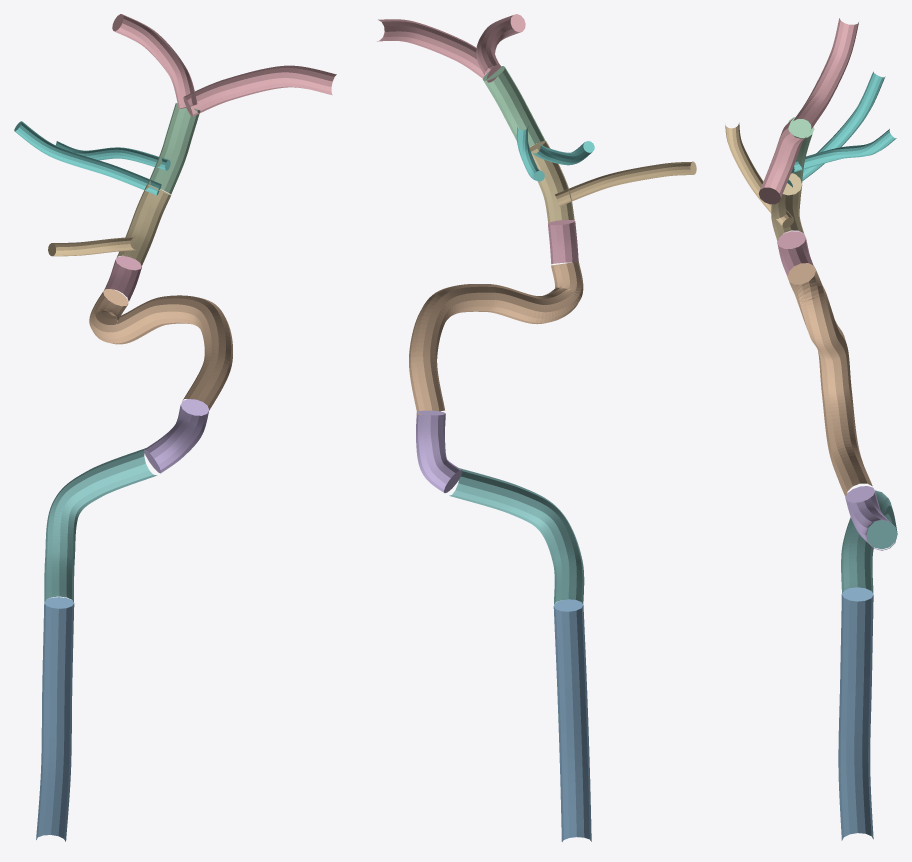
Rendered from aci.glb.
The picture shows the model from 3 angles, left to right: view 1: azimuth 30°, elevation 25°; view 2: azimuth 150°, elevation 25°; view 3: azimuth 270°, elevation 25°; orthographic projection. The views are drawn at different scales.
Parts seen in each view (by area): view 1: C1 — cervical, C4 — cavernoso, C2 — petroso, Artéria cerebral média — M1 inicial, C3 — lacerum, Artéria cerebral anterior — A1 inicial, C7 — comunicante, Artéria comunicante posterior, C6 — oftálmico, Artéria oftálmica — origem habitual esquemática, Artéria coroideia anterior, C5 — clinoideo; view 2: C4 — cavernoso, C1 — cervical, C2 — petroso, Artéria cerebral média — M1 inicial, C3 — lacerum, C7 — comunicante, Artéria oftálmica — origem habitual esquemática, C6 — oftálmico, Artéria cerebral anterior — A1 inicial, C5 — clinoideo, Artéria comunicante posterior, Artéria coroideia anterior; view 3: C1 — cervical, C4 — cavernoso, C2 — petroso, Artéria cerebral anterior — A1 inicial, Artéria cerebral média — M1 inicial, Artéria comunicante posterior, C3 — lacerum, Artéria oftálmica — origem habitual esquemática, Artéria coroideia anterior, C6 — oftálmico, C5 — clinoideo, C7 — comunicante.
Part boxes in pixels (x1,y1,x2,y2): C1 — cervical: (36, 597, 74, 841); C4 — cavernoso: (89, 289, 232, 411); C2 — petroso: (44, 448, 157, 602); Artéria cerebral média — M1 inicial: (183, 65, 336, 116); C3 — lacerum: (144, 399, 208, 473); Artéria cerebral anterior — A1 inicial: (112, 14, 197, 108); C7 — comunicante: (147, 103, 200, 194); Artéria comunicante posterior: (14, 121, 161, 195); C6 — oftálmico: (116, 184, 170, 266); Artéria oftálmica — origem habitual esquemática: (48, 236, 135, 256); Artéria coroideia anterior: (56, 141, 170, 170); C5 — clinoideo: (104, 256, 141, 301); C4 — cavernoso: (409, 261, 583, 415); C1 — cervical: (553, 599, 591, 841); C2 — petroso: (449, 468, 584, 604); Artéria cerebral média — M1 inicial: (377, 19, 500, 82); C3 — lacerum: (416, 410, 462, 493); C7 — comunicante: (482, 66, 545, 146); Artéria oftálmica — origem habitual esquemática: (555, 161, 696, 206); C6 — oftálmico: (529, 140, 574, 223); Artéria cerebral anterior — A1 inicial: (476, 14, 525, 75); C5 — clinoideo: (548, 219, 578, 264); Artéria comunicante posterior: (532, 141, 594, 165); Artéria coroideia anterior: (516, 126, 544, 181); C1 — cervical: (838, 587, 873, 840); C4 — cavernoso: (787, 263, 872, 497); C2 — petroso: (841, 490, 897, 593); Artéria cerebral anterior — A1 inicial: (793, 18, 858, 128); Artéria cerebral média — M1 inicial: (758, 118, 805, 204); Artéria comunicante posterior: (787, 71, 885, 187); C3 — lacerum: (845, 486, 896, 550); Artéria oftálmica — origem habitual esquemática: (725, 123, 793, 227); Artéria coroideia anterior: (792, 129, 896, 172); C6 — oftálmico: (771, 173, 804, 241); C5 — clinoideo: (777, 231, 813, 276); C7 — comunicante: (788, 117, 814, 183).
Size of the model in its own units: 4.48 by 11.36 by 2.06.
